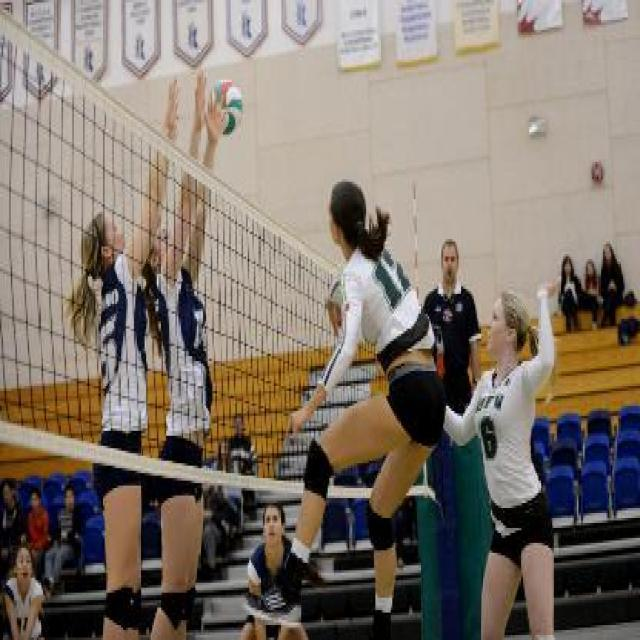volleyball: (210, 80, 242, 135)
